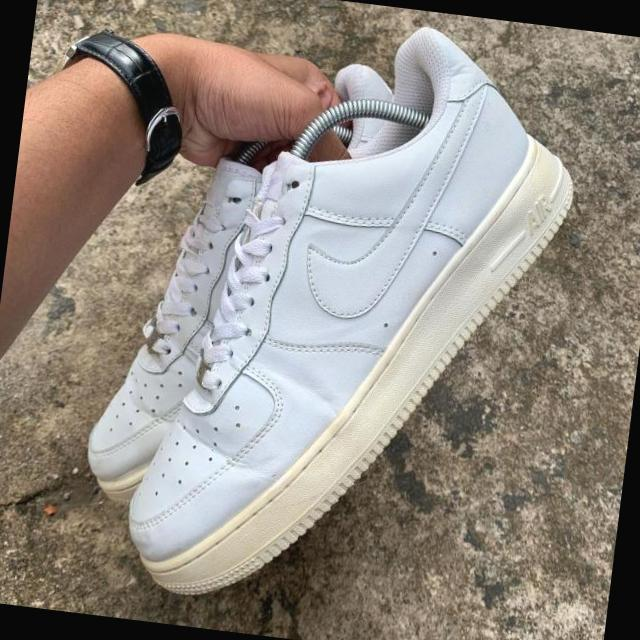nike_fake_airforce: (104, 0, 594, 636), (80, 142, 318, 522)
